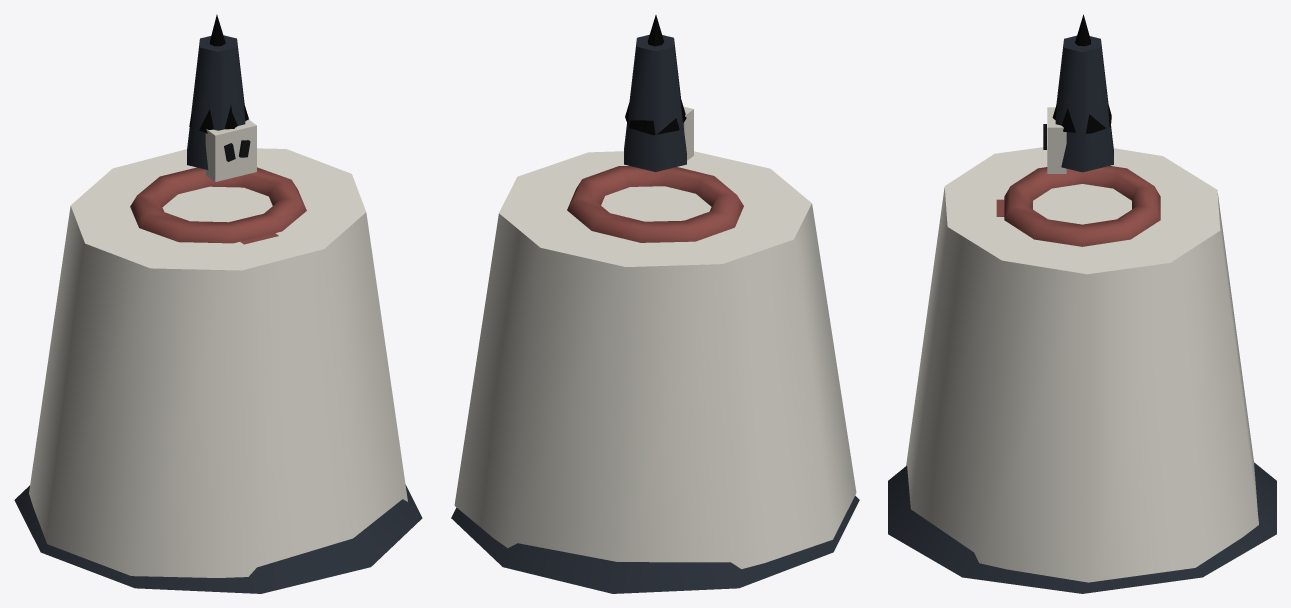
The model's file is character-comparison-bell-hybrid-v1.glb.
3 renders of one model, left to right at view 1: azimuth 30°, elevation 25°; view 2: azimuth 150°, elevation 25°; view 3: azimuth 270°, elevation 25°, orthographic.
Visible parts, largest first — view 1: Bell hybrid; view 2: Bell hybrid; view 3: Bell hybrid.
Part boxes in pixels (left/top/right/bottom): Bell hybrid: left=14, top=14, right=422, bottom=593; Bell hybrid: left=451, top=15, right=859, bottom=593; Bell hybrid: left=888, top=14, right=1276, bottom=593.
Size of the model in its own units: 3.84 by 5.11 by 3.65.
8 materials, 3 textured.
